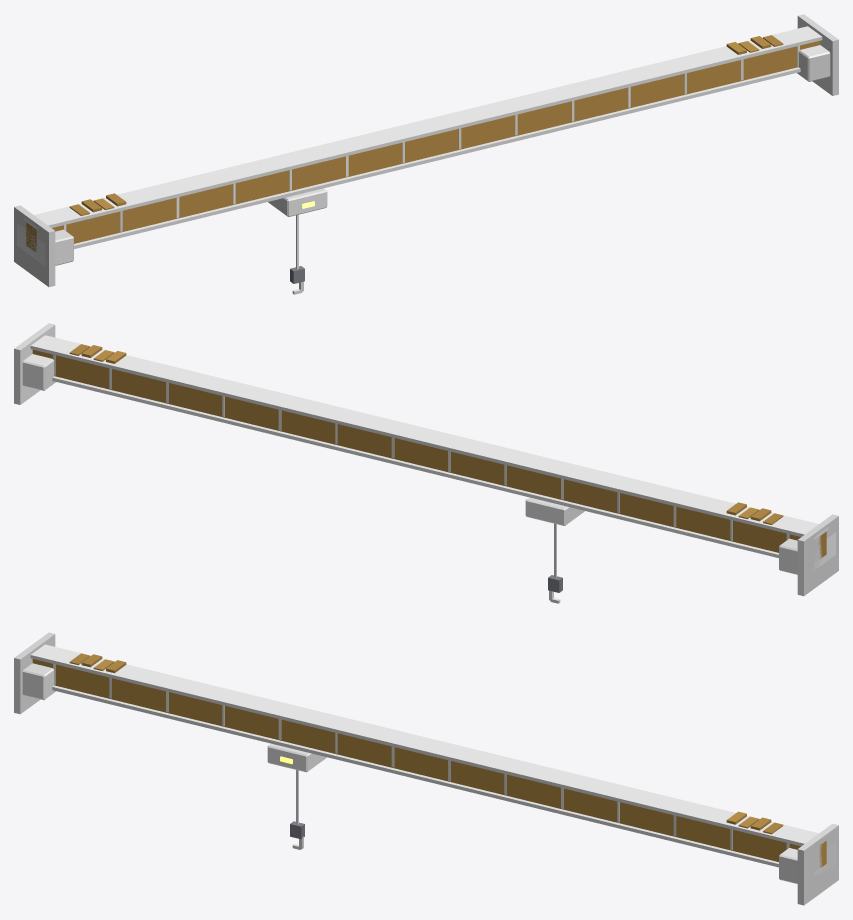
File: Crane_Gantry.fbx
3 renders of one model, top to bottom at view 1: azimuth 30°, elevation 25°; view 2: azimuth 150°, elevation 25°; view 3: azimuth 330°, elevation 25°, orthographic.
Visible parts, largest first — view 1: Crane_Gantry; view 2: Crane_Gantry; view 3: Crane_Gantry.
Part boxes in pixels (left/top/right/bottom): Crane_Gantry: left=14, top=14, right=838, bottom=294; Crane_Gantry: left=14, top=323, right=838, bottom=603; Crane_Gantry: left=14, top=632, right=838, bottom=905.
Bounding box in the file's own units: 19.6 × 3.29 × 1.5.
